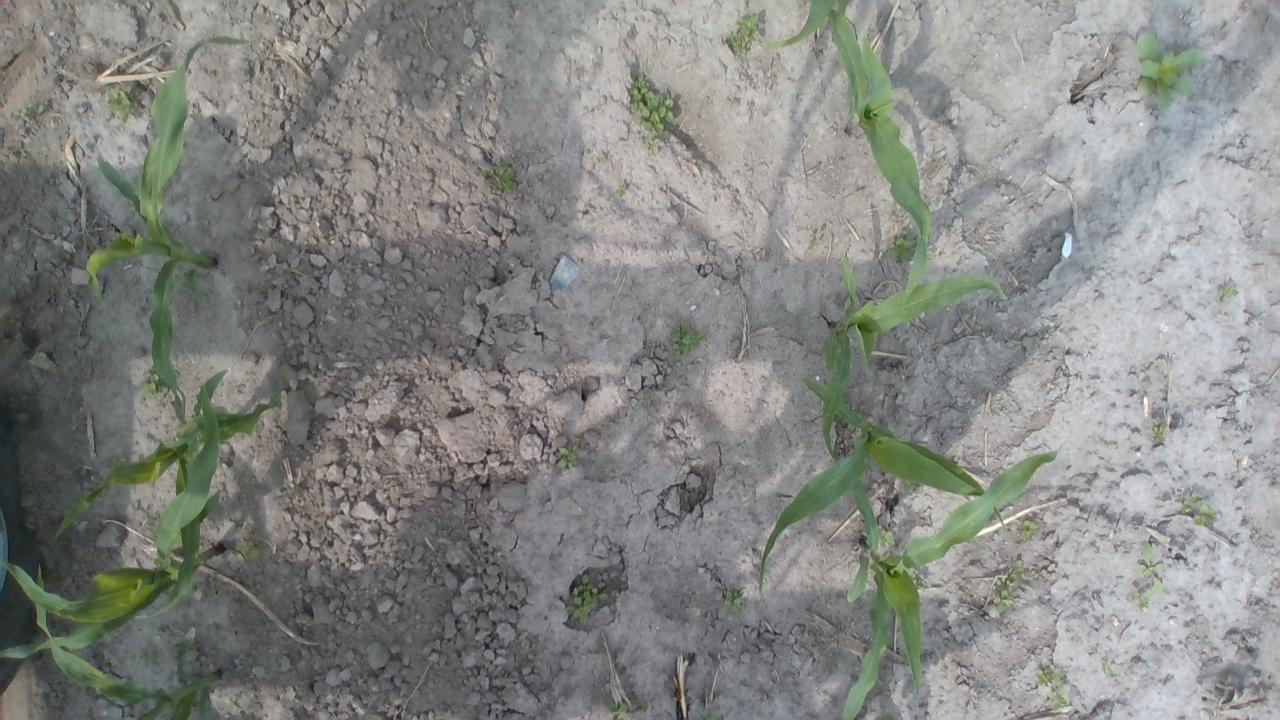Maize: (80, 32, 266, 428), (840, 446, 1064, 720), (754, 368, 1014, 598), (53, 371, 288, 622), (0, 544, 228, 718), (820, 257, 1010, 463), (822, 1, 936, 304), (759, 3, 852, 54)
Weeds: (1134, 30, 1204, 112), (626, 77, 680, 155), (560, 576, 616, 630), (1130, 541, 1167, 609), (994, 560, 1026, 612), (726, 13, 762, 59), (1040, 662, 1071, 710), (1182, 492, 1217, 528), (673, 323, 704, 360), (103, 87, 132, 125), (888, 234, 923, 264), (487, 165, 518, 194), (1006, 515, 1039, 541), (722, 588, 746, 615), (610, 698, 644, 717), (141, 371, 164, 398), (556, 445, 578, 473), (1220, 275, 1238, 301), (138, 647, 162, 666), (16, 105, 38, 123), (1152, 422, 1170, 442), (240, 544, 260, 560), (698, 709, 724, 720), (1103, 659, 1118, 676)
